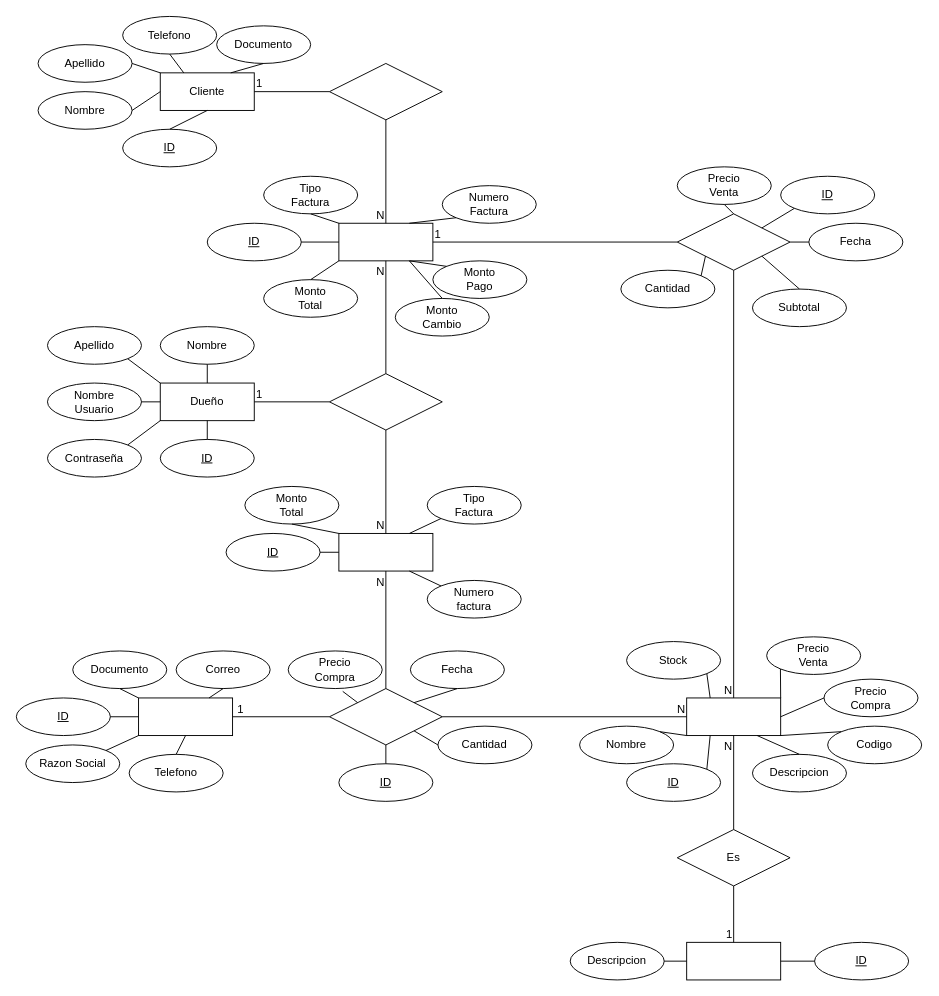
This 939x996 diagram has some shape labels left out. Here are the shapes that lost their labels. From the top down, the centre of each, then its label:
the point at 385,91: Realiza
the point at 385,241: Ventas
the point at 733,241: Detalle Venta
the point at 385,401: Maneja
the point at 385,552: Compras
the point at 185,716: Proveedor
the point at 385,716: Detalle Compra
the point at 733,716: Mercaderia
the point at 733,960: Tipo
